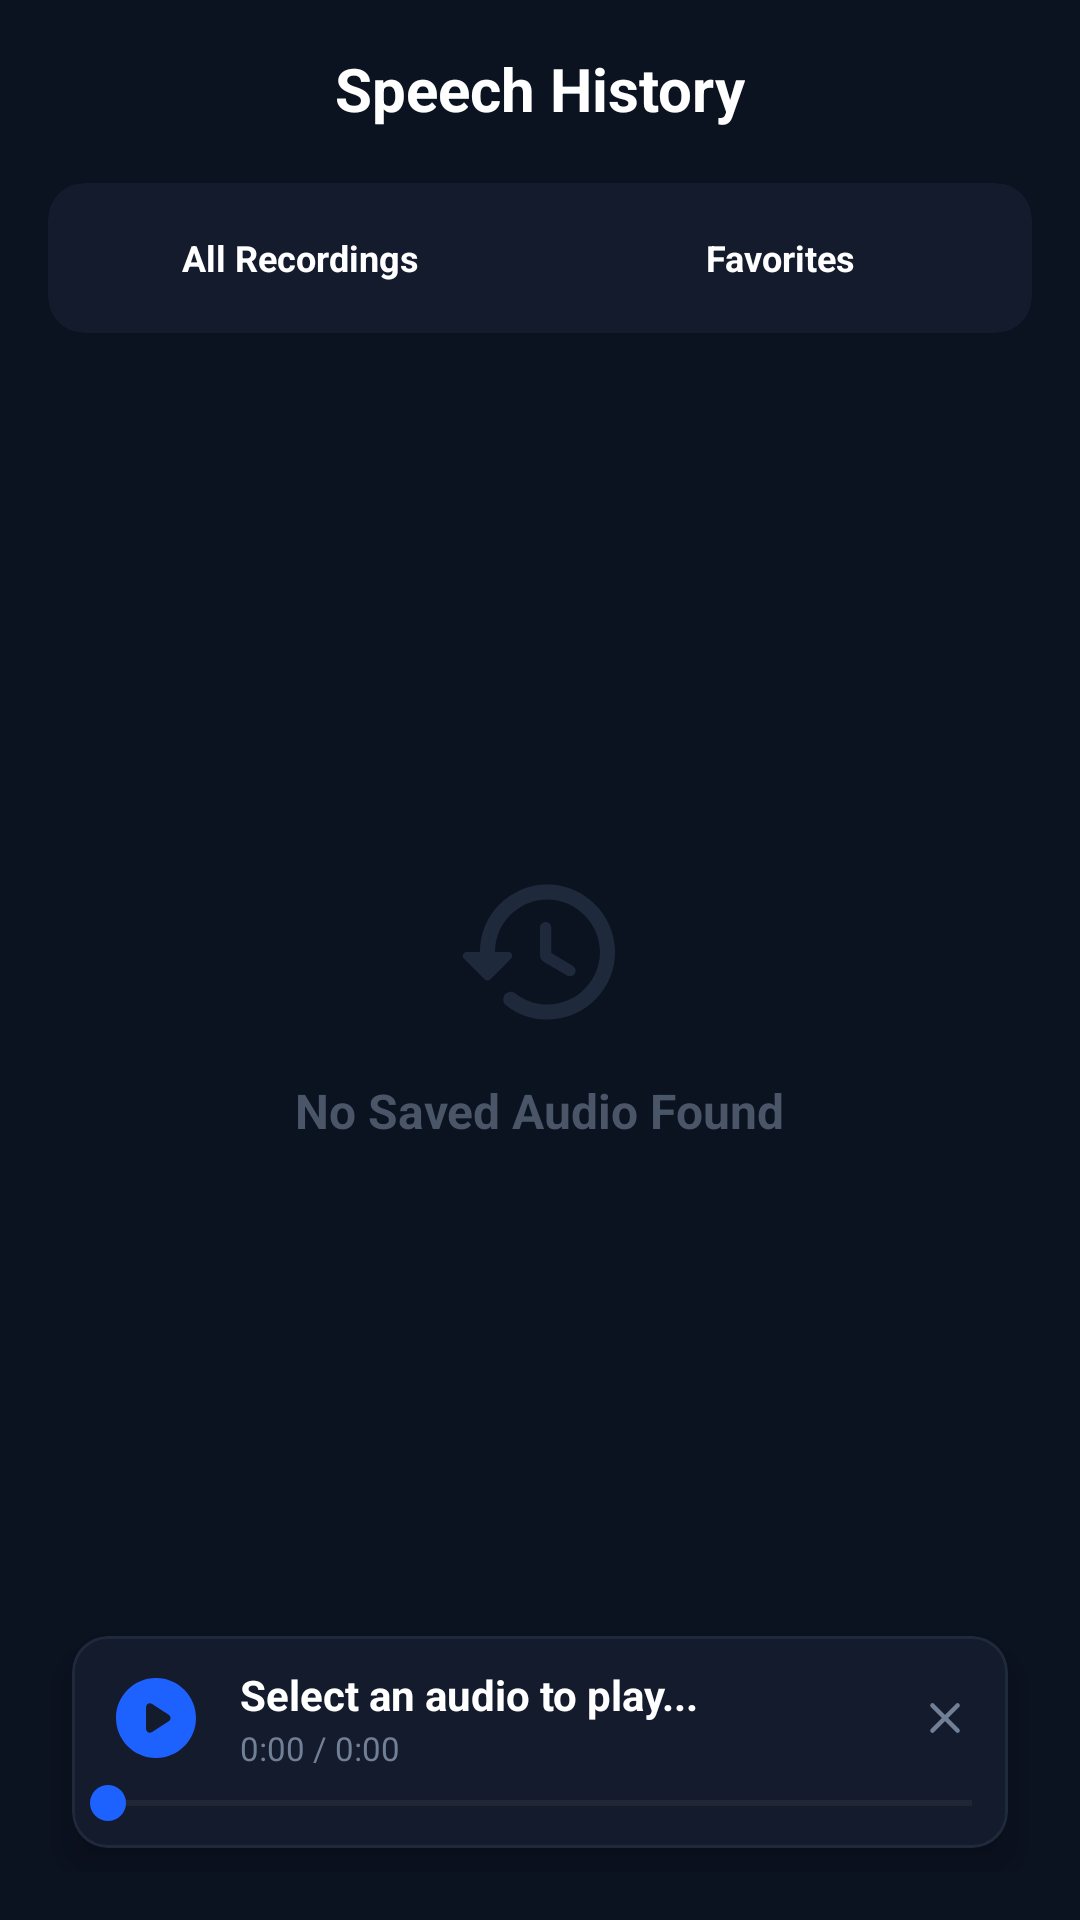

Icons on this 1080*1920 Android screen, each with its box as (x1, y1, x2, y2):
close: (930, 1703, 960, 1733)
history: (463, 885, 615, 1019)
play circle: (116, 1678, 196, 1758)
